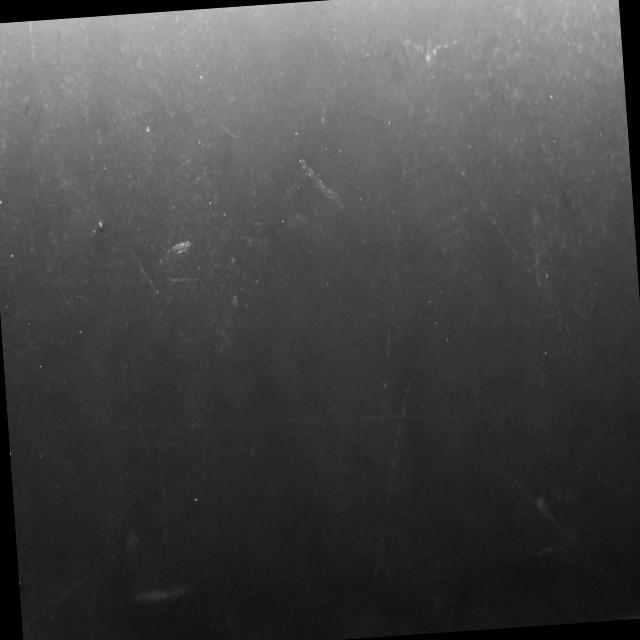beta: (341, 24, 505, 511), (438, 131, 584, 367), (358, 368, 428, 580), (509, 461, 617, 593), (14, 527, 130, 640), (152, 428, 172, 560), (128, 241, 166, 305), (618, 72, 630, 154), (27, 20, 37, 70)
